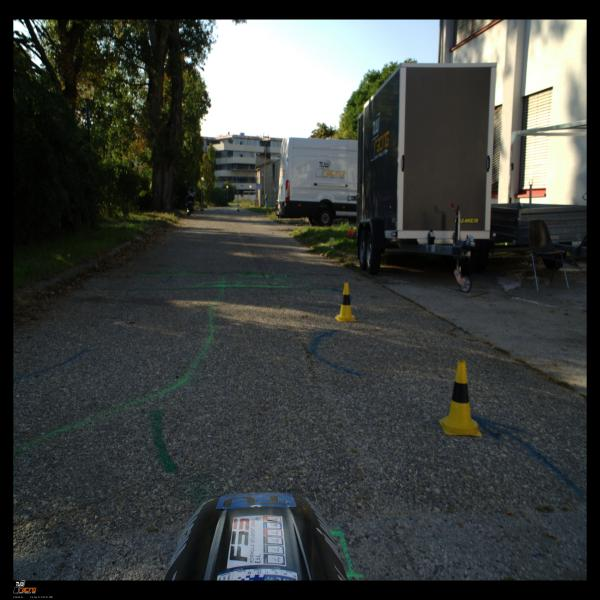yellow_cone: (439, 360, 482, 437), (334, 282, 356, 321)
